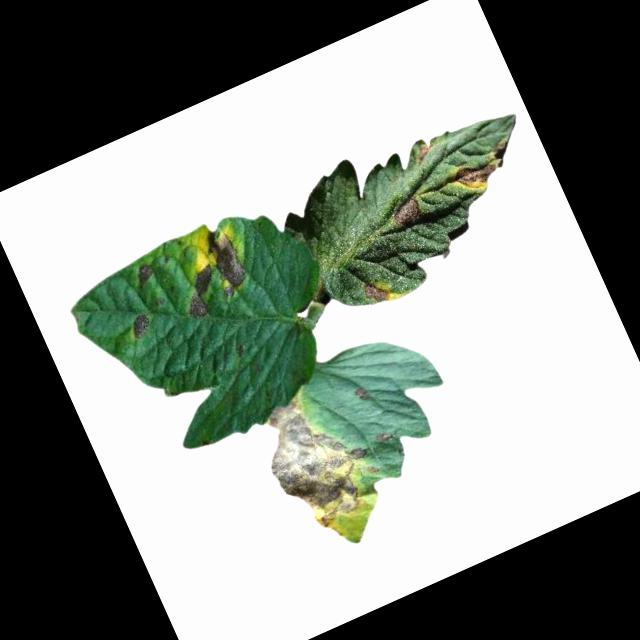Early_blight: (245, 376, 390, 539), (162, 225, 257, 322), (445, 152, 502, 200), (383, 191, 427, 232), (359, 274, 391, 307), (127, 261, 156, 288), (125, 311, 152, 337), (411, 140, 436, 165), (369, 425, 392, 446), (351, 381, 371, 403)
